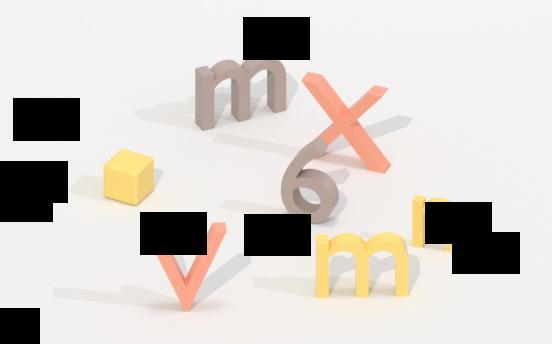6: (278, 135, 341, 228)
hop: (101, 146, 157, 208)
m: (190, 46, 291, 134), (313, 229, 413, 302)
n: (409, 193, 461, 252)
v: (139, 219, 232, 315)
x: (301, 67, 396, 178)
